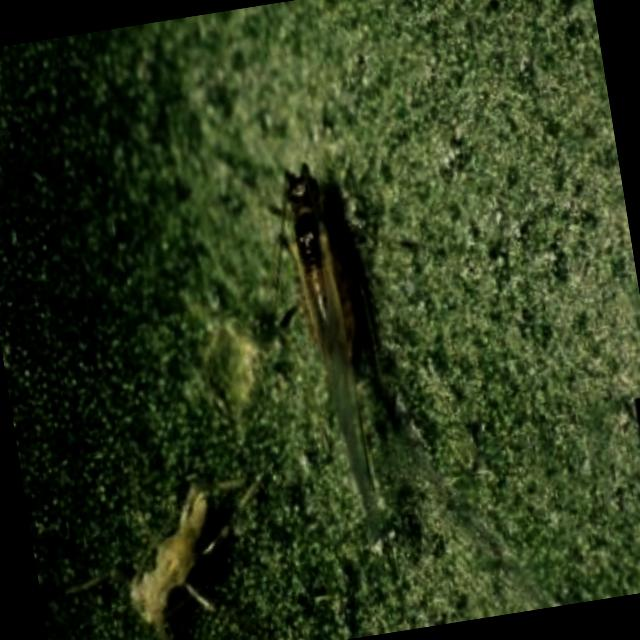Green peach aphid: (202, 107, 492, 548), (64, 415, 278, 640)
